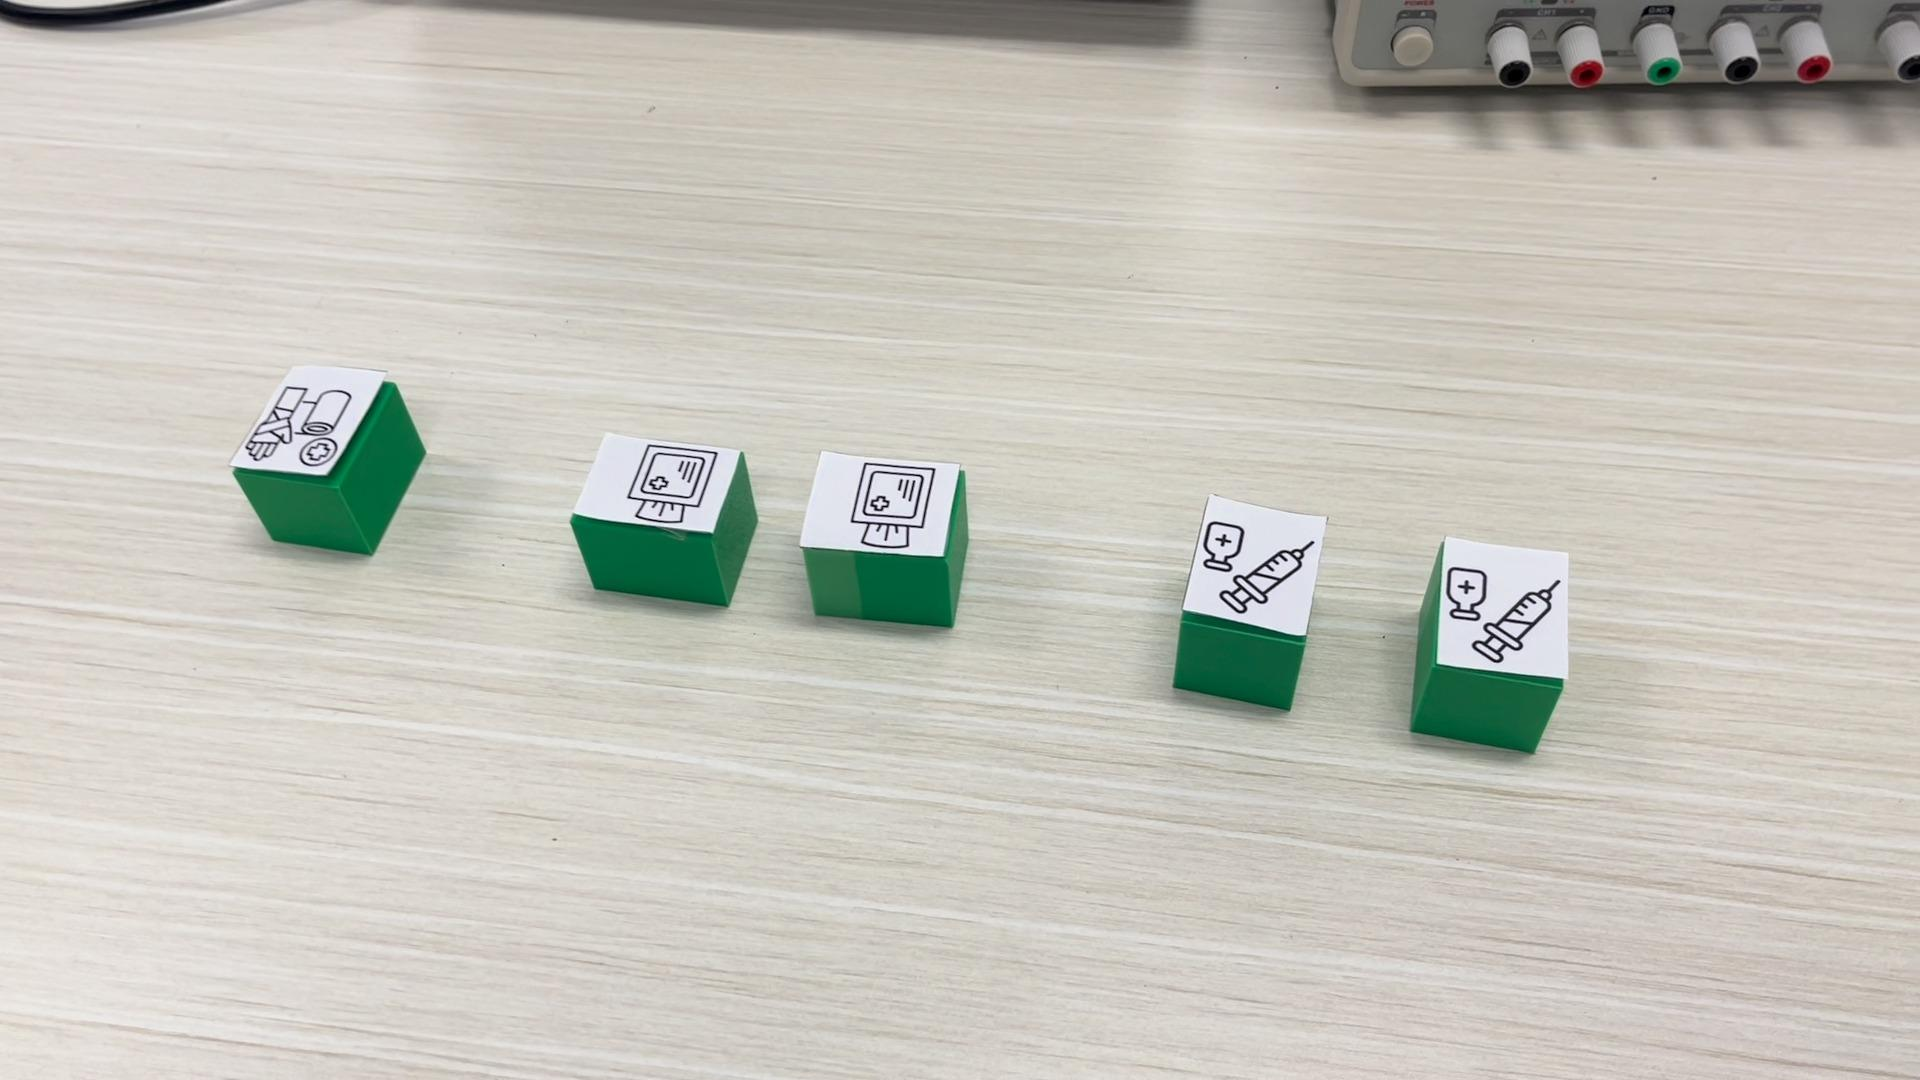Bandages: (231, 361, 425, 556)
Gauze: (568, 431, 757, 607), (799, 448, 969, 626)
antiseptic cream: (1407, 534, 1575, 754), (1171, 493, 1327, 711)
